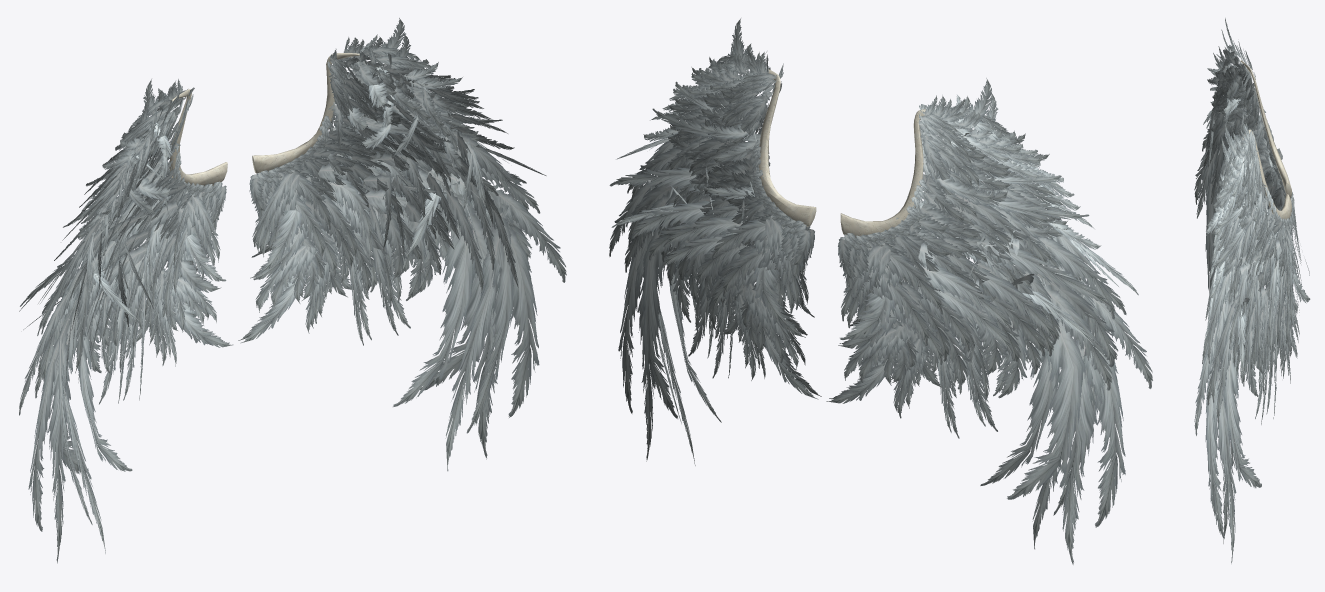
Rendered from angelwings-lite.glb.
The picture shows the model from 3 angles, left to right: view 1: azimuth 30°, elevation 25°; view 2: azimuth 150°, elevation 25°; view 3: azimuth 270°, elevation 25°; orthographic projection. The views are drawn at different scales.
Visible parts, largest first — view 1: angelwings_0, angelwings_1; view 2: angelwings_0, angelwings_1; view 3: angelwings_0, angelwings_1.
Part boxes in pixels (x1,y1,x2,y2): angelwings_0: (19,18,566,563); angelwings_1: (169,53,359,186); angelwings_0: (609,18,1152,564); angelwings_1: (758,69,925,237); angelwings_0: (1194,18,1310,563); angelwings_1: (1240,60,1291,219).
Size of the model in its own units: 1.8 by 1.48 by 0.3849.
Materials: 2 (2 with a texture image).
